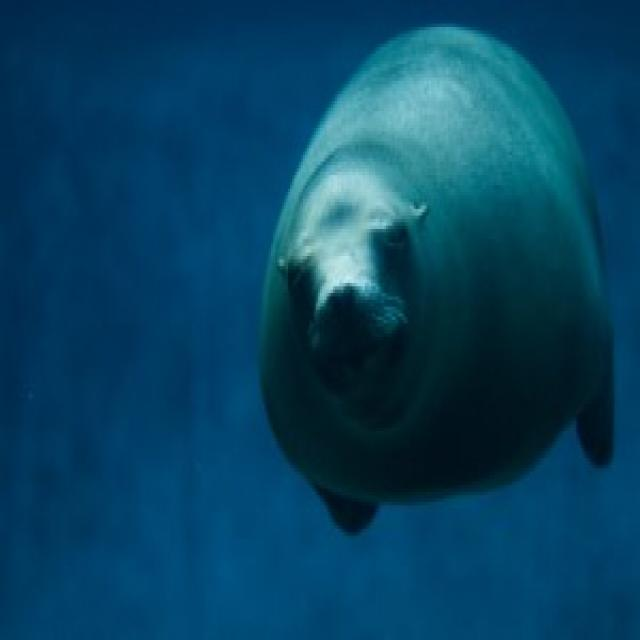Seal: (246, 13, 628, 556)
